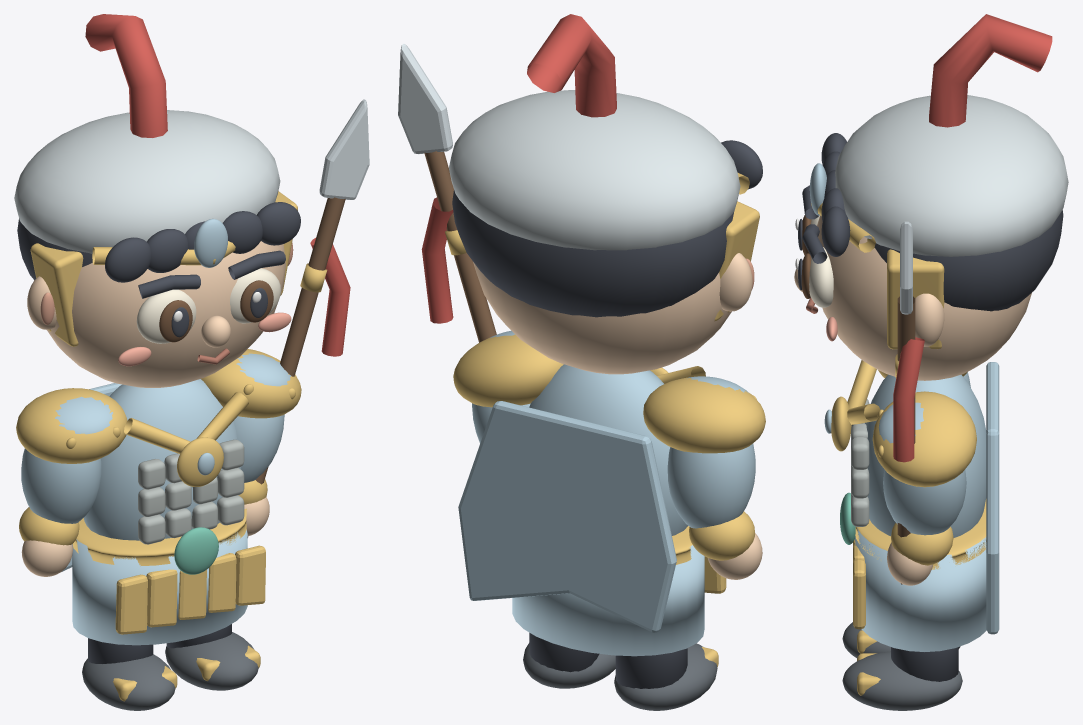
The model's file is zhaoyun.fbx.
3 renders of one model, left to right at view 1: azimuth 30°, elevation 25°; view 2: azimuth 150°, elevation 25°; view 3: azimuth 270°, elevation 25°, orthographic. The views are drawn at different scales.
Parts seen in each view (by area): view 1: helmet, face, body, robe_skirt, plume, shoulder_gold.001, sleeve.001, boot, boot.001, spear_tip, shoulder_gold, weapon_shaft (+42 smaller); view 2: cape, helmet, hair_mass, face, robe_skirt, shoulder_gold.001, body, sleeve.001, plume, shoulder_gold, spear_tip, weapon_shaft (+10 smaller); view 3: helmet, face, robe_skirt, hair_mass, plume, shoulder_gold, body, boot.001, cape, sleeve, weapon_tassel, cheek_guard.001 (+22 smaller).
Part boxes in pixels (x1=…): helmet: x1=14, y1=110, x2=280, y2=253; face: x1=34, y1=241, x2=285, y2=387; body: x1=83, y1=379, x2=240, y2=540; robe_skirt: x1=72, y1=530, x2=247, y2=645; plume: x1=85, y1=14, x2=167, y2=137; shoulder_gold.001: x1=16, y1=388, x2=127, y2=463; sleeve.001: x1=21, y1=448, x2=101, y2=523; boot: x1=82, y1=654, x2=175, y2=710; boot.001: x1=165, y1=632, x2=258, y2=690; spear_tip: x1=319, y1=99, x2=369, y2=199; shoulder_gold: x1=201, y1=349, x2=301, y2=418; weapon_shaft: x1=247, y1=197, x2=345, y2=537; cape: x1=458, y1=401, x2=676, y2=632; helmet: x1=449, y1=90, x2=740, y2=250; hair_mass: x1=452, y1=190, x2=733, y2=317; face: x1=473, y1=262, x2=731, y2=374; robe_skirt: x1=512, y1=545, x2=704, y2=656; shoulder_gold.001: x1=643, y1=377, x2=765, y2=453; body: x1=529, y1=364, x2=687, y2=535; sleeve.001: x1=667, y1=443, x2=755, y2=528; plume: x1=527, y1=14, x2=616, y2=117; shoulder_gold: x1=453, y1=334, x2=563, y2=407; spear_tip: x1=398, y1=44, x2=452, y2=154; weapon_shaft: x1=424, y1=151, x2=496, y2=342; helmet: x1=835, y1=95, x2=1068, y2=256; face: x1=817, y1=215, x2=1031, y2=380; robe_skirt: x1=854, y1=528, x2=986, y2=651; hair_mass: x1=874, y1=210, x2=1063, y2=311; plume: x1=929, y1=14, x2=1052, y2=127; shoulder_gold: x1=872, y1=391, x2=976, y2=487; body: x1=865, y1=374, x2=986, y2=537; boot.001: x1=842, y1=651, x2=962, y2=710; cape: x1=986, y1=362, x2=999, y2=634; sleeve: x1=883, y1=469, x2=966, y2=535; weapon_tassel: x1=893, y1=337, x2=924, y2=462; cheek_guard.001: x1=887, y1=249, x2=944, y2=349.
Bounding box in the file's own units: 1.54 × 2.81 × 1.05.
